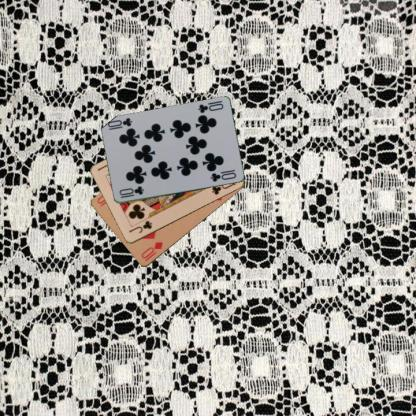10c: (195, 98, 224, 114), (117, 184, 145, 199)
10d: (139, 239, 164, 263)
Jc: (127, 218, 153, 235)
